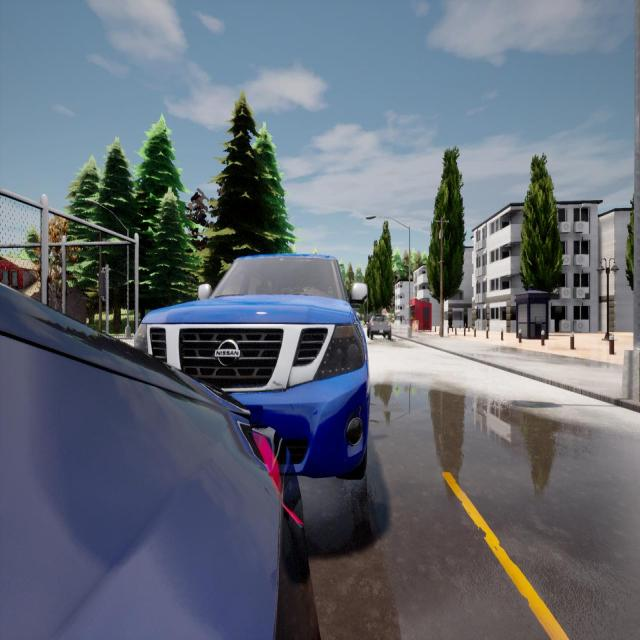Traffic_Signs: (382, 309, 386, 315), (361, 314, 364, 317)
Vehicle: (0, 287, 317, 638), (135, 256, 368, 478), (368, 316, 391, 339)
traffic_light: (99, 272, 105, 294)
